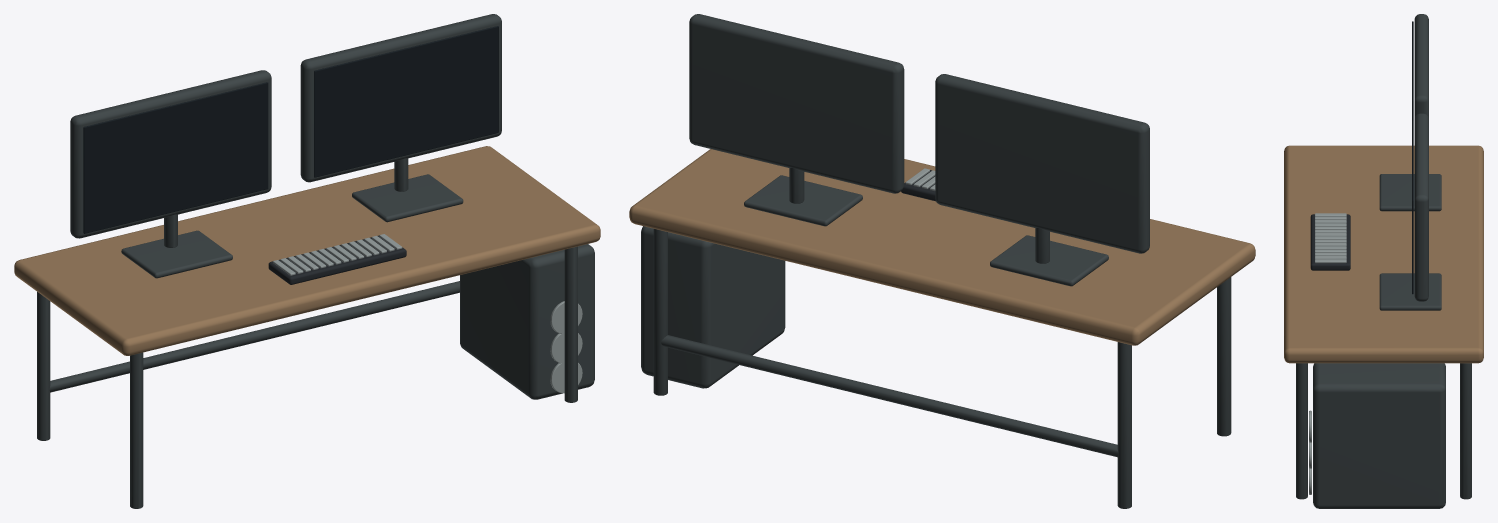
The model's file is P_EditDesk.fbx.
3 renders of one model, left to right at view 1: azimuth 30°, elevation 25°; view 2: azimuth 150°, elevation 25°; view 3: azimuth 270°, elevation 25°, orthographic. The views are drawn at different scales.
Visible parts, largest first — view 1: P_EditDesk; view 2: P_EditDesk; view 3: P_EditDesk.
Boxes of the visible parts, x1,y1,x2,y2 form: P_EditDesk: [14, 14, 600, 508]; P_EditDesk: [629, 14, 1255, 508]; P_EditDesk: [1284, 14, 1483, 508].
Size of the model in its own units: 2.25 by 1.49 by 0.9.
